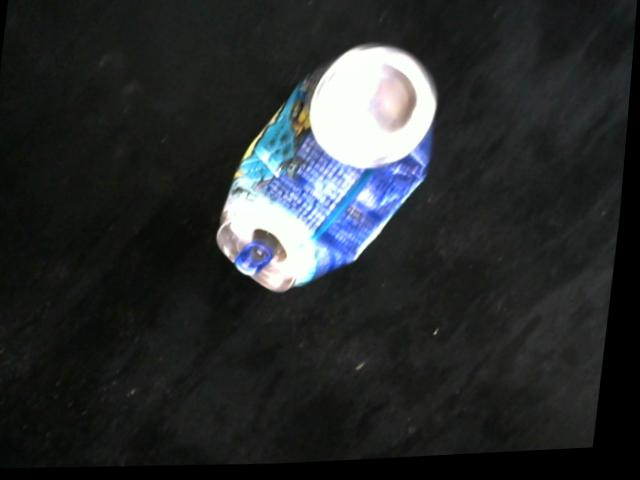can: (219, 50, 434, 296)
